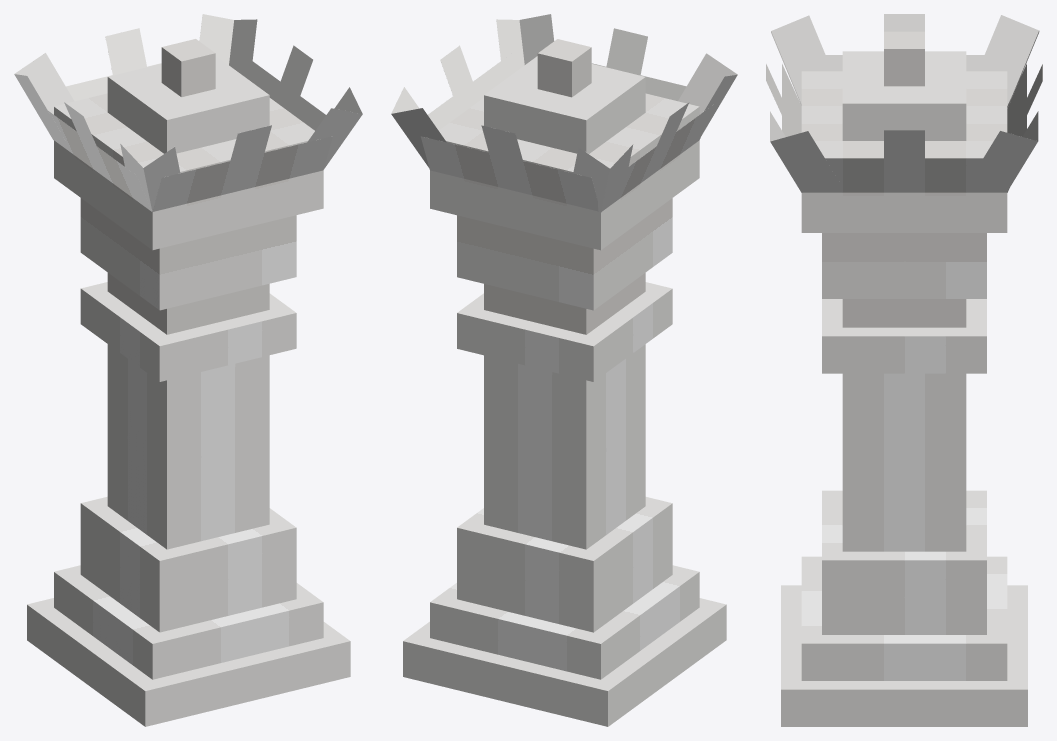
Rendered from queen.gltf.
3 views of the same model, side by side, from view 1: azimuth 30°, elevation 25°; view 2: azimuth 150°, elevation 25°; view 3: azimuth 270°, elevation 25° (orthographic). The views are drawn at different scales.
Visible parts, largest first — view 1: cube (×22); view 2: cube (×22); view 3: cube (×19).
Part boxes in pixels (left/top/right/bottom): cube (×22): left=14, top=14, right=362, bottom=726; cube (×22): left=391, top=14, right=737, bottom=726; cube (×19): left=770, top=14, right=1038, bottom=726.
Bounding box in the file's own units: 0.42 × 1.06 × 0.4199.
Materials: 1 (1 with a texture image).
